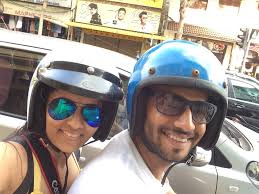helmet: (125, 39, 230, 160), (24, 43, 126, 158)
